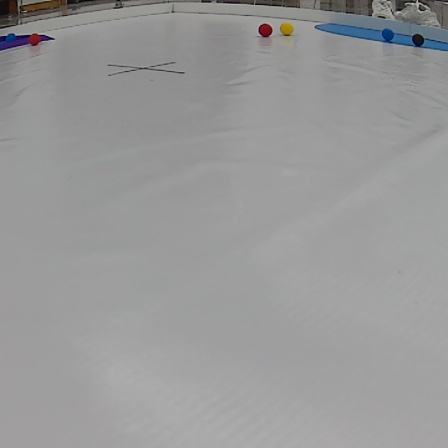black: (411, 32, 425, 47)
blue: (380, 28, 395, 42), (5, 30, 17, 45)
blue_base: (313, 19, 448, 55)
red: (258, 22, 273, 38), (27, 32, 42, 46)
yellow: (282, 21, 294, 38)
